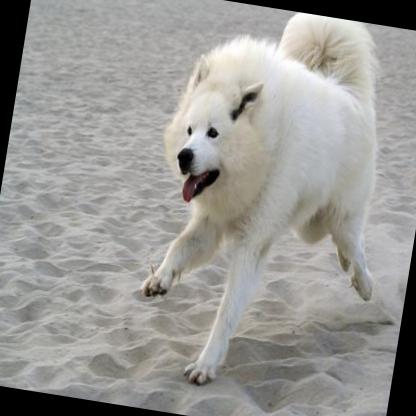Samoyed: (122, 0, 416, 412)
